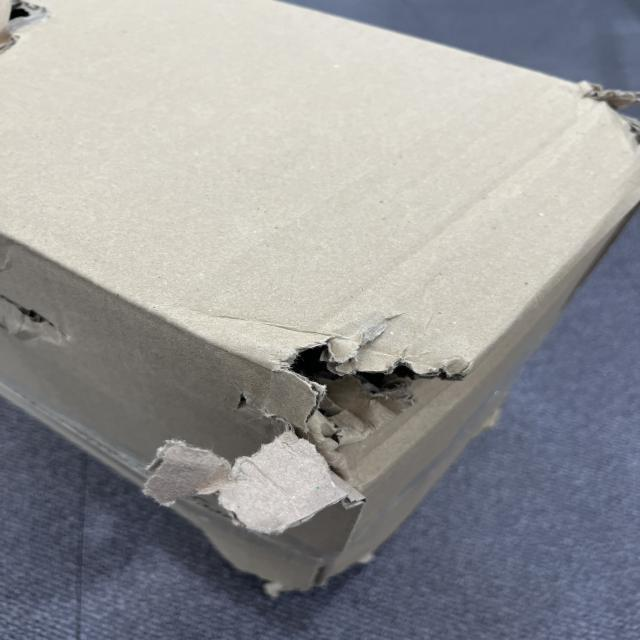hole: (222, 316, 474, 480), (8, 289, 68, 349), (0, 0, 58, 33)
